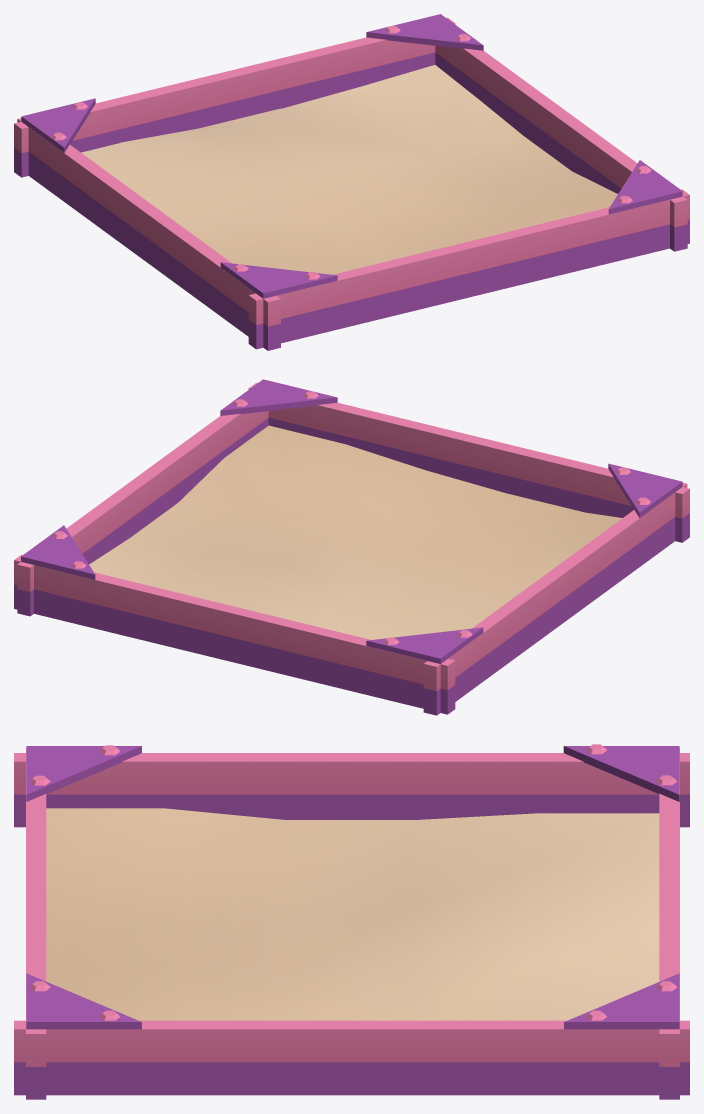
File: Sandbox.fbx
3 renders of one model, top to bottom at view 1: azimuth 30°, elevation 25°; view 2: azimuth 150°, elevation 25°; view 3: azimuth 270°, elevation 25°, orthographic. The views are drawn at different scales.
Parts seen in each view (by area): view 1: SM_Sandbox_01__1_; view 2: SM_Sandbox_01__1_; view 3: SM_Sandbox_01__1_.
Part boxes in pixels (<box>): SM_Sandbox_01__1_: <box>14,14,689,350</box>; SM_Sandbox_01__1_: <box>14,379,689,715</box>; SM_Sandbox_01__1_: <box>14,744,689,1099</box>.
Bounding box in the file's own units: 9467 × 1179 × 9470.
